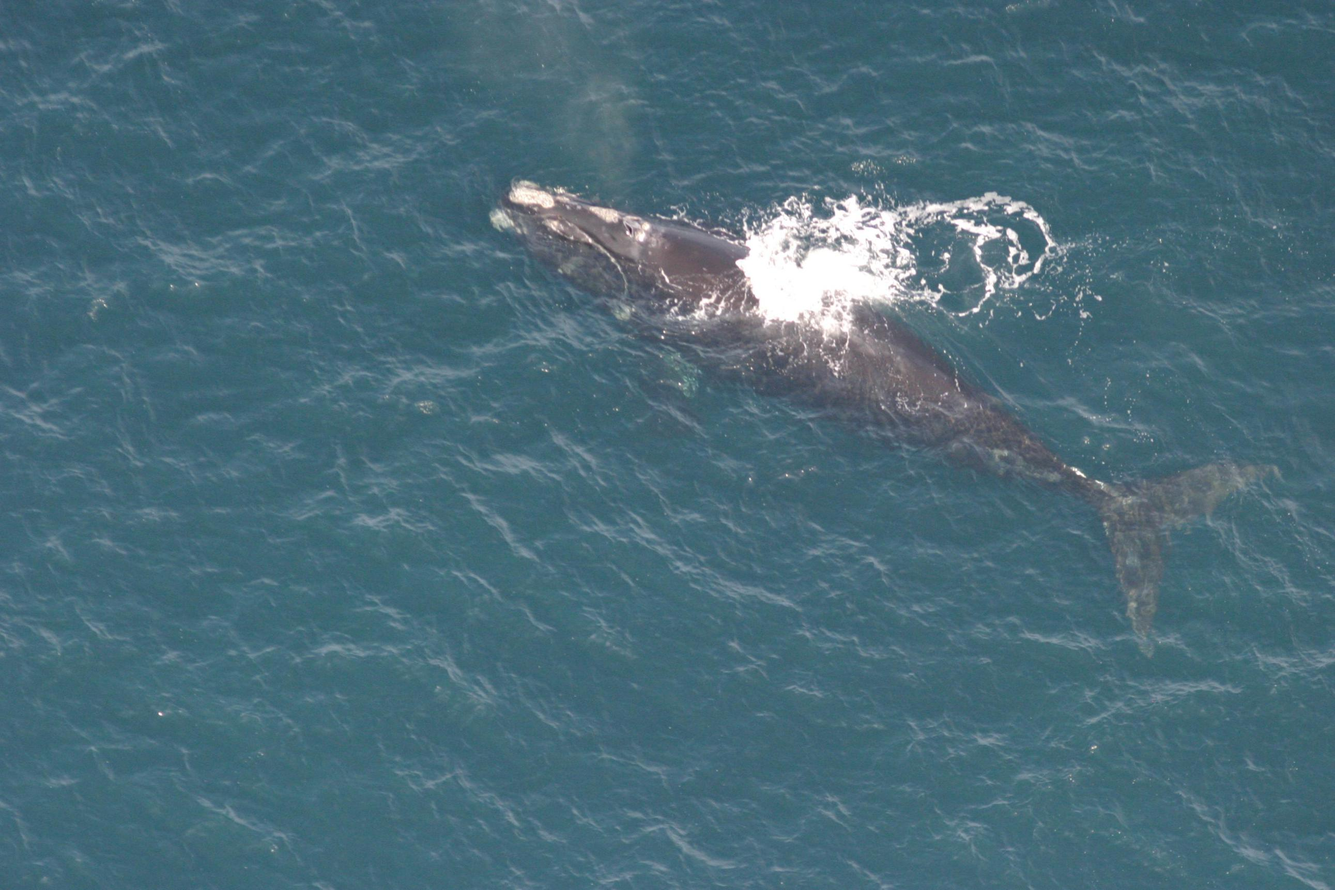whale: (475, 166, 1281, 662)
